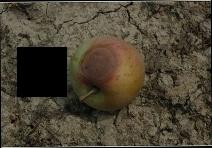rotten apple: (70, 38, 145, 112)
